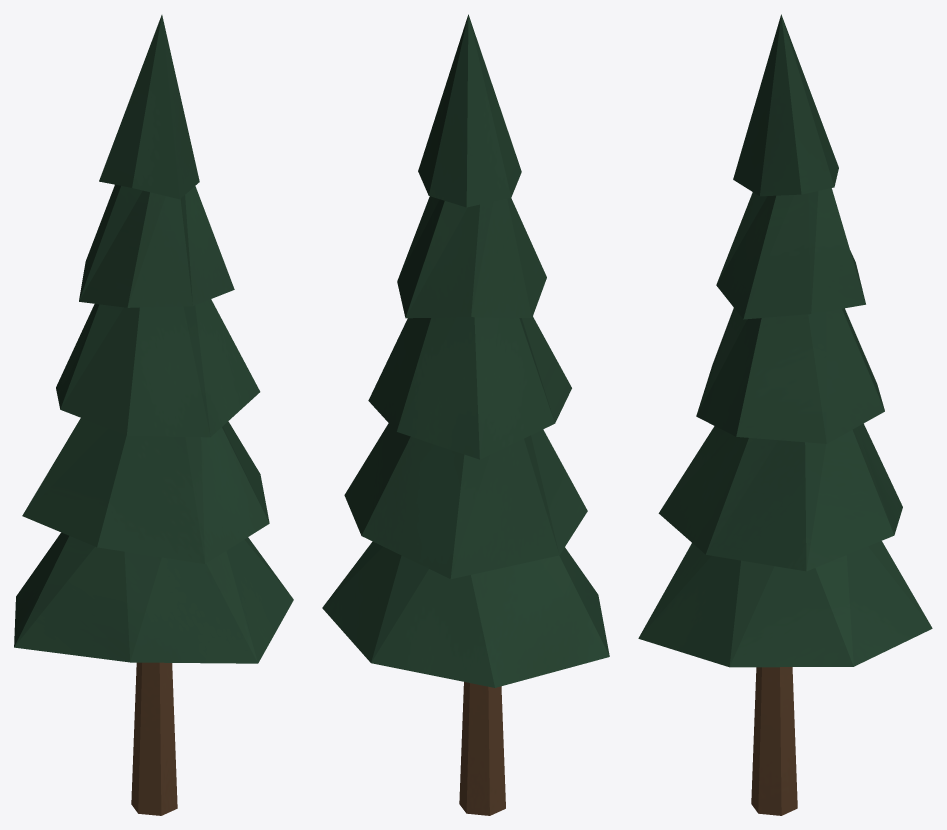
File: far_pine.fbx
The picture shows the model from 3 angles, left to right: view 1: azimuth 30°, elevation 25°; view 2: azimuth 150°, elevation 25°; view 3: azimuth 270°, elevation 25°; orthographic projection.
Parts seen in each view (by area): view 1: far_pine__Card; view 2: far_pine__Card; view 3: far_pine__Card.
Part boxes in pixels (box(x1,y1,x2,y2)): far_pine__Card: box(14, 15, 293, 815); far_pine__Card: box(322, 14, 609, 815); far_pine__Card: box(638, 14, 932, 815).
Size of the model in its own units: 27.44 by 80.9 by 27.08.
Materials: 1 (1 with a texture image).
